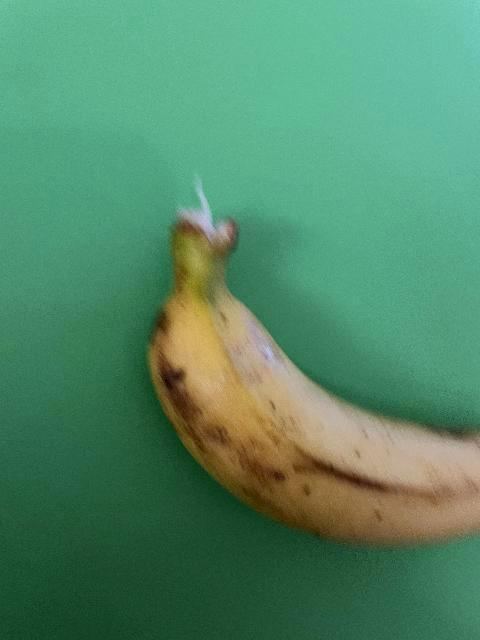banana: (146, 208, 480, 554)
